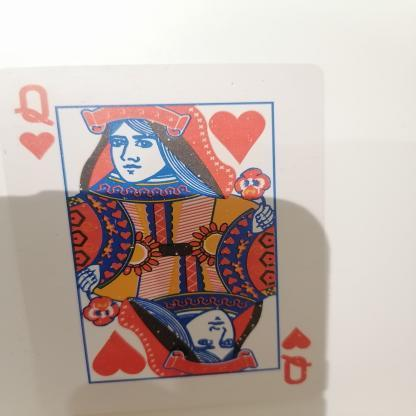QH: (16, 76, 68, 175), (278, 322, 325, 402)
